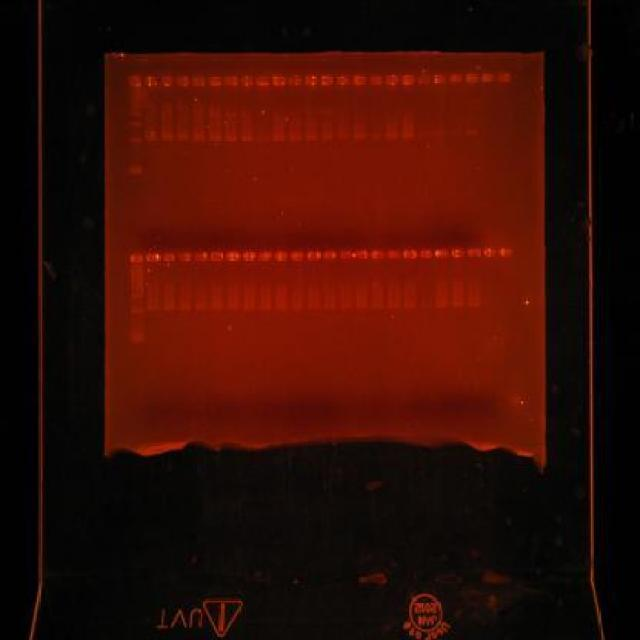B: (368, 132, 383, 140), (242, 304, 256, 312), (258, 304, 272, 312), (464, 128, 478, 136), (144, 133, 158, 141), (208, 134, 222, 142), (272, 134, 286, 142), (400, 132, 414, 140), (352, 132, 366, 140), (304, 134, 318, 142), (176, 134, 189, 142), (160, 133, 172, 141), (146, 306, 160, 312), (162, 306, 176, 312), (194, 304, 208, 310), (226, 304, 240, 310), (450, 302, 464, 308), (402, 304, 416, 310), (386, 304, 400, 310), (354, 303, 368, 309), (274, 304, 288, 310), (306, 304, 320, 310), (323, 304, 337, 310), (192, 134, 206, 140), (224, 136, 238, 142), (239, 136, 253, 142), (288, 136, 302, 142), (384, 134, 398, 140), (320, 134, 334, 140), (336, 133, 350, 139), (419, 302, 433, 308), (256, 136, 270, 142), (178, 306, 191, 312), (210, 304, 223, 310), (435, 303, 448, 309), (371, 304, 384, 310), (339, 304, 352, 310), (291, 304, 304, 310), (468, 302, 480, 308)
L: (123, 69, 514, 91), (124, 244, 516, 264)
M: (126, 74, 143, 177), (128, 251, 146, 347)
P: (130, 331, 144, 344), (128, 166, 144, 177), (130, 307, 144, 315), (130, 292, 144, 300), (128, 136, 142, 144), (130, 284, 144, 290), (128, 121, 142, 127), (129, 111, 142, 117), (129, 105, 142, 110)
Pc: (370, 248, 386, 261), (496, 71, 512, 84), (240, 74, 254, 88), (256, 74, 270, 88), (288, 74, 302, 88), (304, 74, 318, 88), (448, 72, 463, 85), (208, 250, 224, 262), (416, 74, 432, 86), (384, 74, 399, 86), (401, 74, 416, 86), (241, 250, 257, 261), (466, 247, 482, 258), (482, 247, 498, 258), (143, 76, 159, 87), (480, 72, 496, 83), (226, 250, 240, 262), (258, 250, 272, 262), (320, 74, 334, 86), (336, 74, 350, 86), (352, 74, 366, 86), (450, 248, 466, 258), (130, 252, 144, 263), (274, 250, 288, 261), (322, 250, 336, 261), (387, 249, 401, 260), (499, 247, 513, 258), (128, 76, 142, 87), (159, 76, 173, 87), (176, 77, 190, 88), (192, 76, 206, 87), (208, 76, 222, 87), (224, 76, 238, 87), (466, 73, 480, 84), (433, 74, 447, 85), (370, 74, 382, 86), (146, 252, 160, 262), (162, 252, 176, 262), (178, 252, 192, 262), (194, 252, 208, 262), (434, 248, 448, 258), (272, 76, 286, 86), (306, 251, 320, 260), (338, 250, 352, 259), (354, 250, 368, 259), (290, 252, 304, 260), (403, 250, 417, 258), (419, 250, 433, 258)
